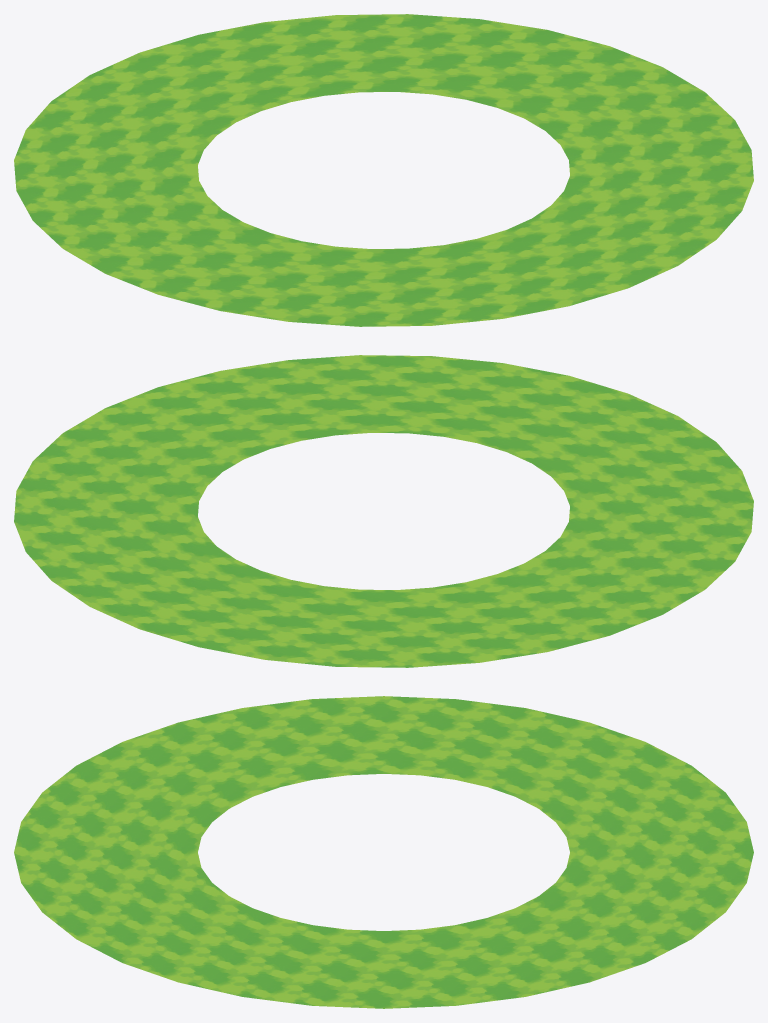
Rendered from EnvFloor.glb.
3 views of the same model, one above another, from view 1: azimuth 30°, elevation 25°; view 2: azimuth 150°, elevation 25°; view 3: azimuth 270°, elevation 25° (orthographic).
Parts seen in each view (by area): view 1: EnvFloor; view 2: EnvFloor; view 3: EnvFloor.
Boxes of the visible parts, x1,y1,x2,y2 form: EnvFloor: (14,14,753,326); EnvFloor: (14,355,753,667); EnvFloor: (14,696,753,1008).
Size of what is drawn, in the model's own units: 88.94 by 1.83e-07 by 88.94.
1 material, 1 textured.
